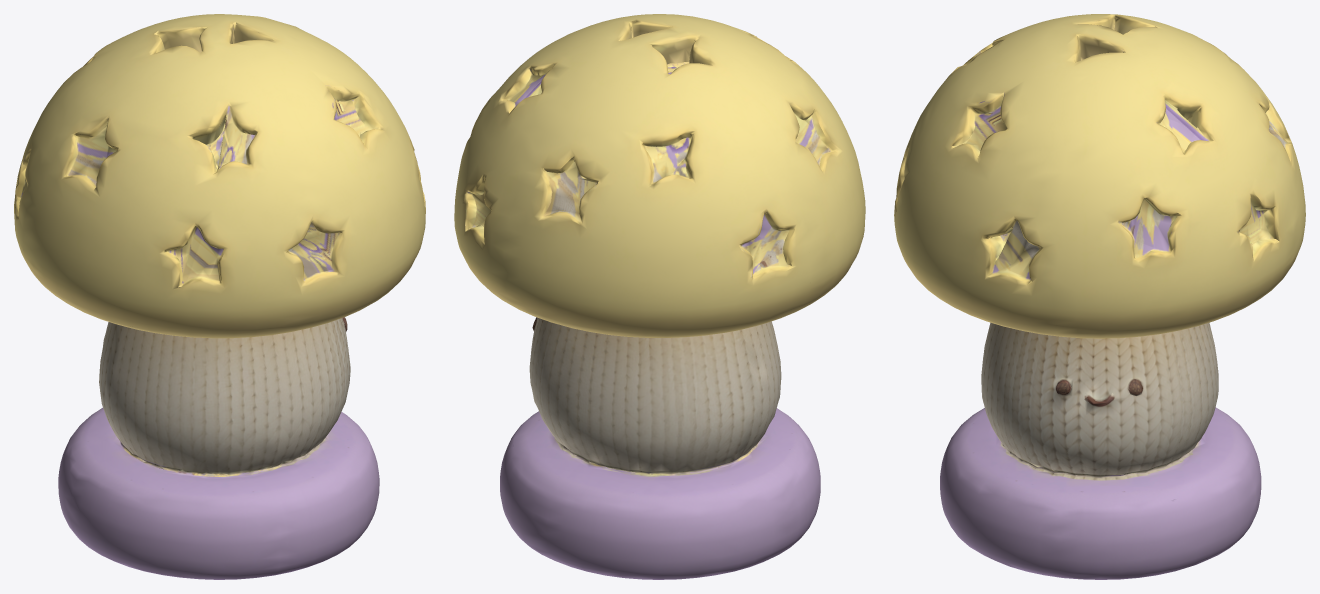
3 renders of one model, left to right at view 1: azimuth 30°, elevation 25°; view 2: azimuth 150°, elevation 25°; view 3: azimuth 270°, elevation 25°, orthographic.
Parts seen in each view (by area): view 1: repaired; view 2: repaired; view 3: repaired.
Boxes of the visible parts, x1=… form: repaired: x1=14, y1=14, x2=425, y2=579; repaired: x1=454, y1=14, x2=865, y2=579; repaired: x1=894, y1=14, x2=1305, y2=579.
Size of the model in its own units: 0.7641 by 0.9995 by 0.7641.
1 material, 1 textured.
